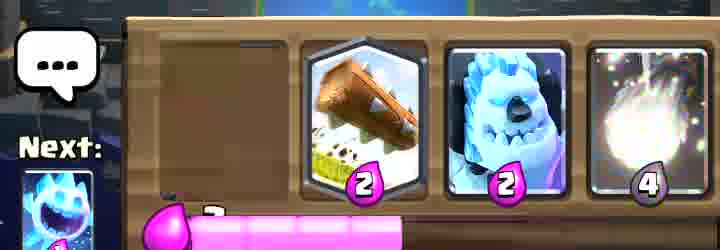fireball: (591, 46, 712, 200)
ice-golem: (447, 53, 560, 198)
ice-spirit: (25, 171, 94, 250)
log: (311, 43, 423, 189)
